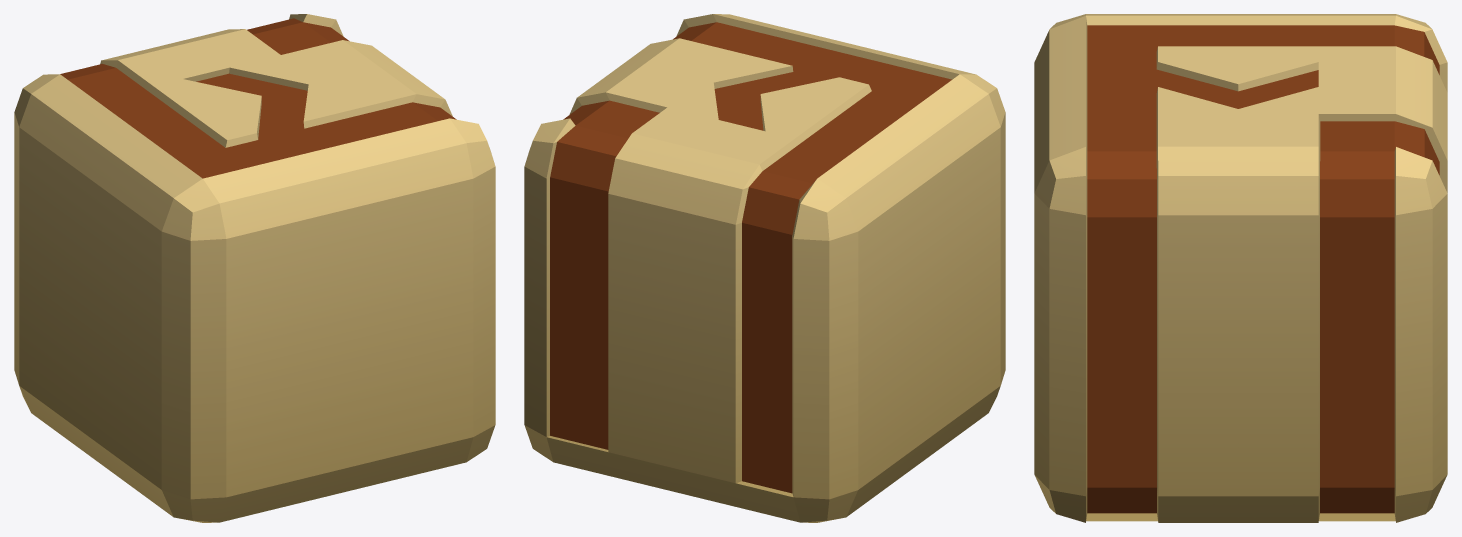
The model's file is Tile_Snake_Turn_White_02.fbx.
The picture shows the model from 3 angles, left to right: view 1: azimuth 30°, elevation 25°; view 2: azimuth 150°, elevation 25°; view 3: azimuth 270°, elevation 25°; orthographic projection. The views are drawn at different scales.
Visible parts, largest first — view 1: Jalur Ular Belok Putih_2; view 2: Jalur Ular Belok Putih_2; view 3: Jalur Ular Belok Putih_2.
Part boxes in pixels (x1,y1,x2,y2): Jalur Ular Belok Putih_2: (14,14,495,522); Jalur Ular Belok Putih_2: (524,14,1005,522); Jalur Ular Belok Putih_2: (1034,14,1447,522).
Size of the model in its own units: 1 by 1 by 1.
1 material, 1 textured.
